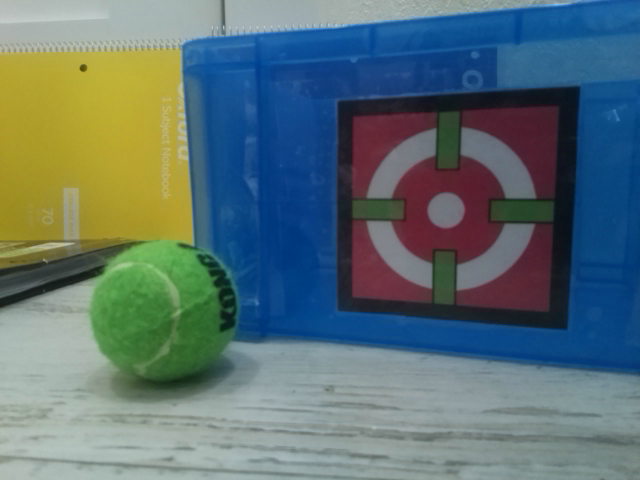drop-bin: (337, 86, 580, 331)
green-ball: (89, 239, 242, 383)
